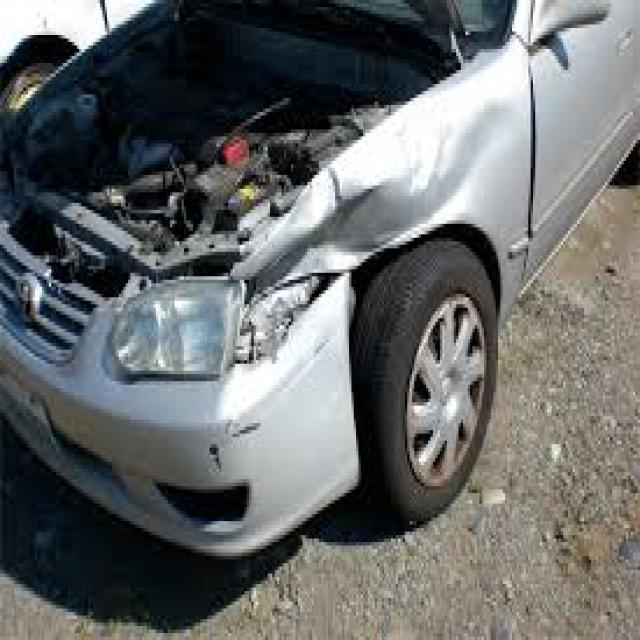moderate: (14, 61, 446, 514)
